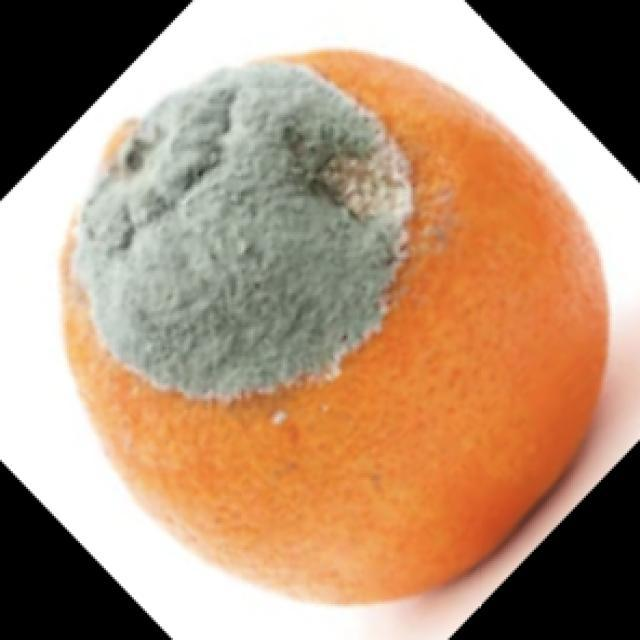sedikit-busuk: (61, 50, 607, 602), (74, 63, 411, 398)
